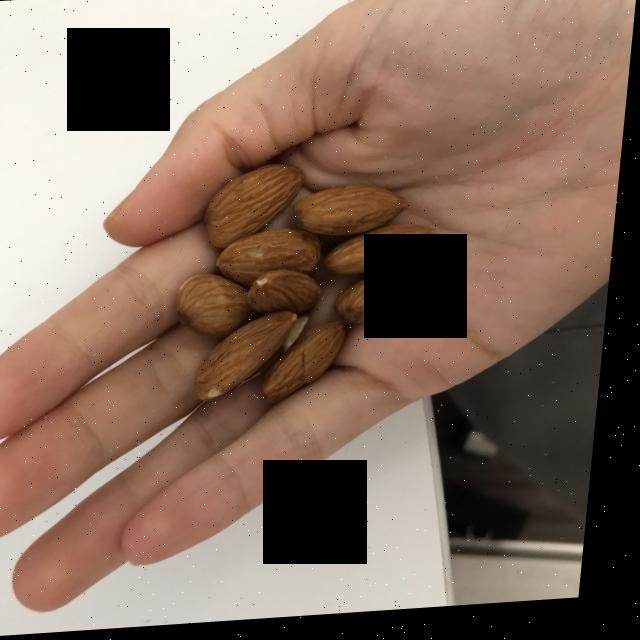almonds: (189, 173, 434, 397)
